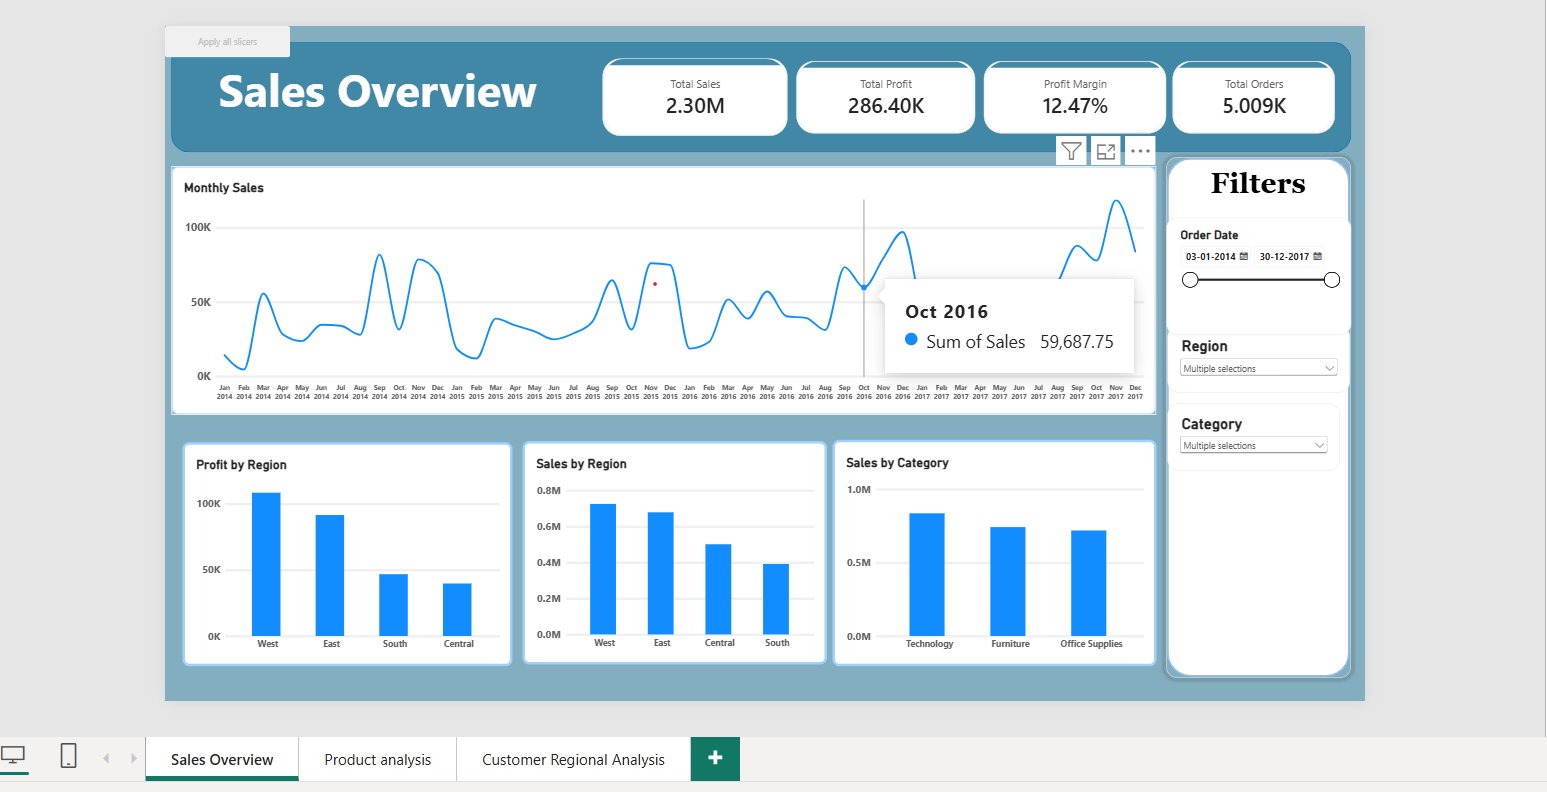

This screenshot's page, from the dashboard's own definition file:
{"tool":"powerbi","page":{"name":"Sales Overview","canvas":[1920,1080],"ordinal":0},"visuals":[{"type":"shape","box":[10,26,1888,176],"z":0},{"type":"shape","title":"Filters","box":[1602.7,209.8,295,832.4],"z":0,"group":"g1"},{"type":"slicer","fields":{"Values":["Sample - Superstore.Category"]},"box":[1604,604,276,108],"z":1000,"group":"g1"},{"type":"cardVisual","fields":{"Data":["Count(Sample - Superstore.Order ID)"]},"box":[1612,56,260,116],"z":2000},{"type":"slicer","fields":{"Values":["Sample - Superstore.Region"]},"box":[1604,480,292,106],"z":2000,"group":"g1"},{"type":"slicer","fields":{"Values":["Sample - Superstore.Order Date"]},"box":[1602,306,296,188],"z":3000,"group":"g1"},{"type":"clusteredColumnChart","title":"Sales by Category","fields":{"Category":["Sample - Superstore.Category"],"Y":["Sum(Sample - Superstore.Sales)"]},"box":[1067.7,662.3,518,362],"z":3000},{"type":"clusteredColumnChart","title":"Sales by Region","fields":{"Category":["Sample - Superstore.Region"],"Y":["Sum(Sample - Superstore.Sales)"]},"box":[572,664,487.5,357.5],"z":4000},{"type":"lineChart","title":"Monthly Sales","fields":{"Category":["Sample - Superstore.YearMonth"],"Y":["Sum(Sample - Superstore.Sales)"]},"box":[10,224,1576,398],"z":5000},{"type":"clusteredColumnChart","title":"Profit by Region","fields":{"Category":["Sample - Superstore.Region"],"Y":["Sum(Sample - Superstore.Profit)"]},"box":[28,666,528,358],"z":6000},{"type":"cardVisual","fields":{"Data":["Sum(Sample - Superstore.Sales)"]},"box":[700,52,296,124],"z":7000},{"type":"cardVisual","fields":{"Data":["Sum(Sample - Superstore.Profit)"]},"box":[1010,56,286,116],"z":8000},{"type":"cardVisual","fields":{"Data":["Sample - Superstore.Profit Margin"]},"box":[1310,56,292,116],"z":9000},{"type":"textbox","box":[46,52,594,348],"z":10000},{"type":"group","id":"g1","title":"Group 1","box":[1602,209.8,296,832.4],"z":11000},{"type":"actionButton","box":[0,0,200,50],"z":12000},{"type":"actionButton","box":[0,0,200,50],"z":13000},{"type":"actionButton","box":[0,0,200,50],"z":14000}]}

Visuals, with their boxes on the page's 1920x1080 design canvas (x1, y1, x2, y2). These are canvas units, not pixel positions in the 1547x792 screenshot, which may show the page scaled, cropped or inside an application window:
shape: [10, 26, 1898, 202]
"Filters" shape: [1603, 210, 1898, 1042]
slicer - Sample - Superstore.Category: [1604, 604, 1880, 712]
cardVisual - Count(Sample - Superstore.Order ID): [1612, 56, 1872, 172]
slicer - Sample - Superstore.Region: [1604, 480, 1896, 586]
slicer - Sample - Superstore.Order Date: [1602, 306, 1898, 494]
"Sales by Category" clusteredColumnChart: [1068, 662, 1586, 1024]
"Sales by Region" clusteredColumnChart: [572, 664, 1060, 1022]
"Monthly Sales" lineChart: [10, 224, 1586, 622]
"Profit by Region" clusteredColumnChart: [28, 666, 556, 1024]
cardVisual - Sum(Sample - Superstore.Sales): [700, 52, 996, 176]
cardVisual - Sum(Sample - Superstore.Profit): [1010, 56, 1296, 172]
cardVisual - Sample - Superstore.Profit Margin: [1310, 56, 1602, 172]
textbox: [46, 52, 640, 400]
"Group 1" group: [1602, 210, 1898, 1042]
actionButton: [0, 0, 200, 50]
actionButton: [0, 0, 200, 50]
actionButton: [0, 0, 200, 50]
